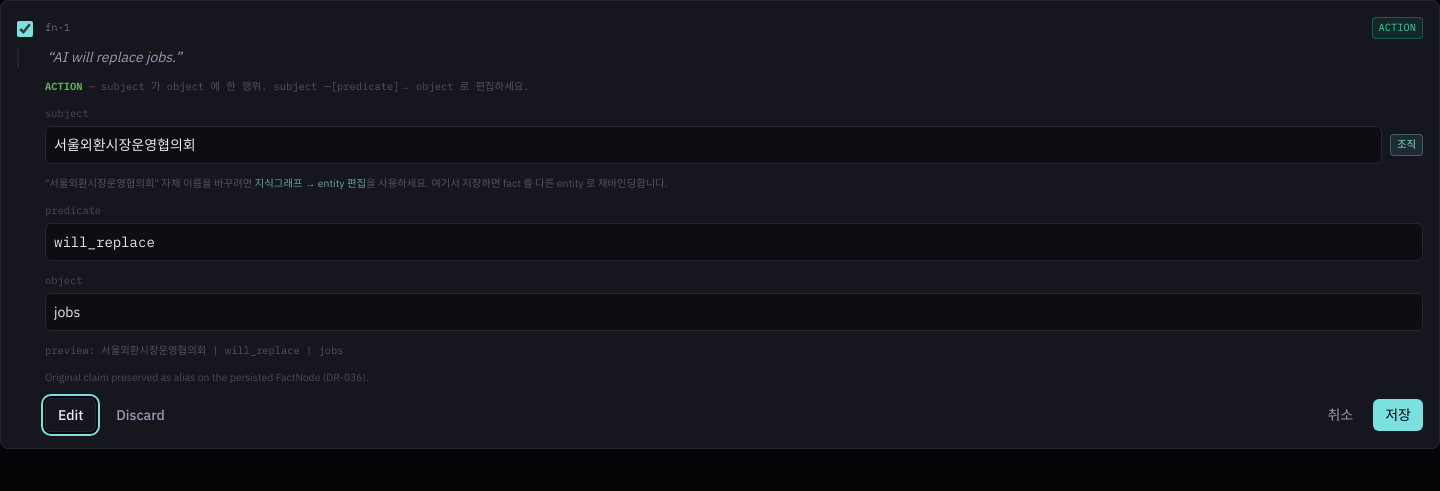
Test: FactCard — subject chip click (spo-pending-ux) › renders suggestion chips and chip click sets editedSubjectUid to entity_id
This screenshot has width=1440, height=491.
Later steps or results of the test are not shown.
Replace the text in the field with test id "fact-edit-subject-fn-1" with "SpaceX": [713, 145] box top-left (45, 126), bottom-right (1382, 164)
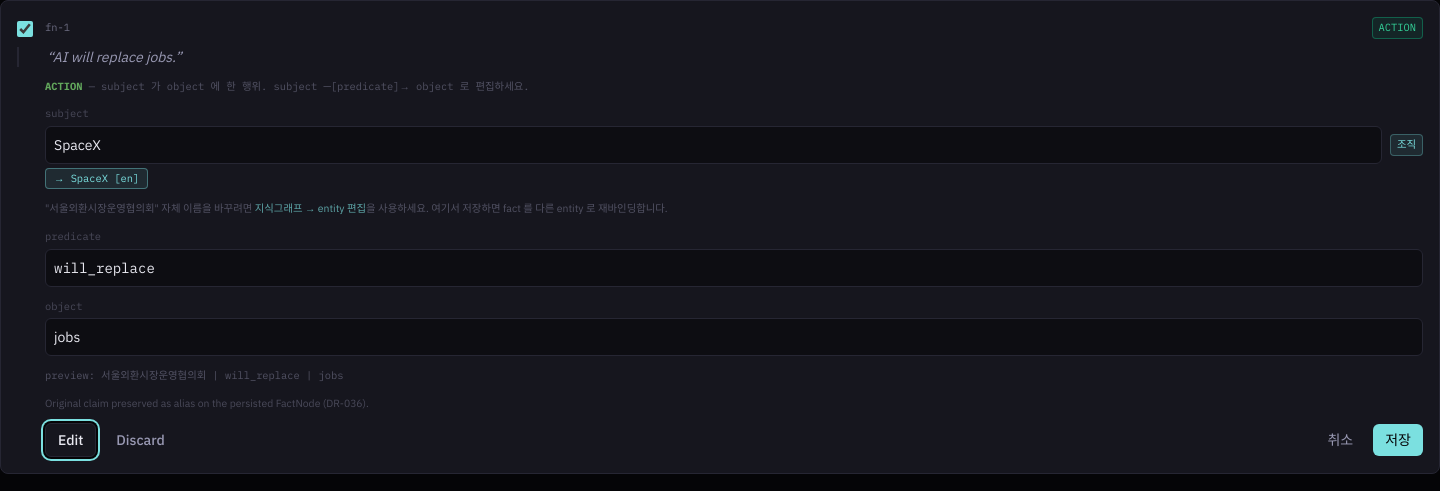
Now the button with test id "subject-chip-uuid-spacex" is shown, box top-left (45, 168), bottom-right (148, 189)
